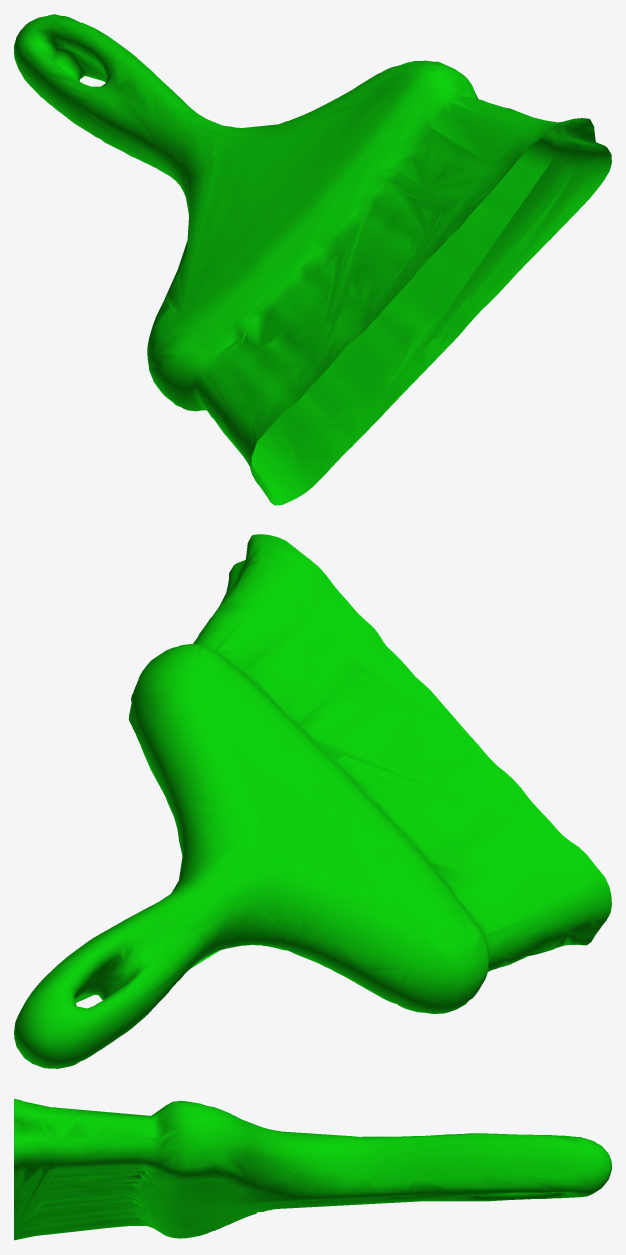
File: broom1.obj
The picture shows the model from 3 angles, top to bottom: view 1: azimuth 30°, elevation 25°; view 2: azimuth 150°, elevation 25°; view 3: azimuth 270°, elevation 25°; orthographic projection. The views are drawn at different scales.
Size of the model in its own units: 0.1412 by 0.1178 by 0.2597.
